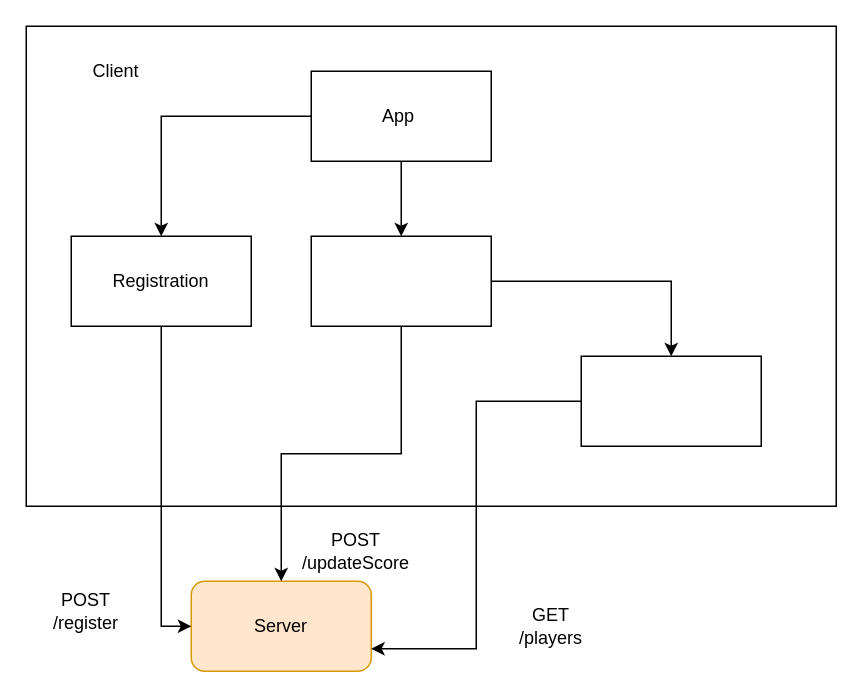
This 863x698 diagram has some shape labels left out. Each missing label, with the box of its shape:
GamePlay: (310, 235, 491, 326)
LeaderBoard: (580, 355, 761, 446)
